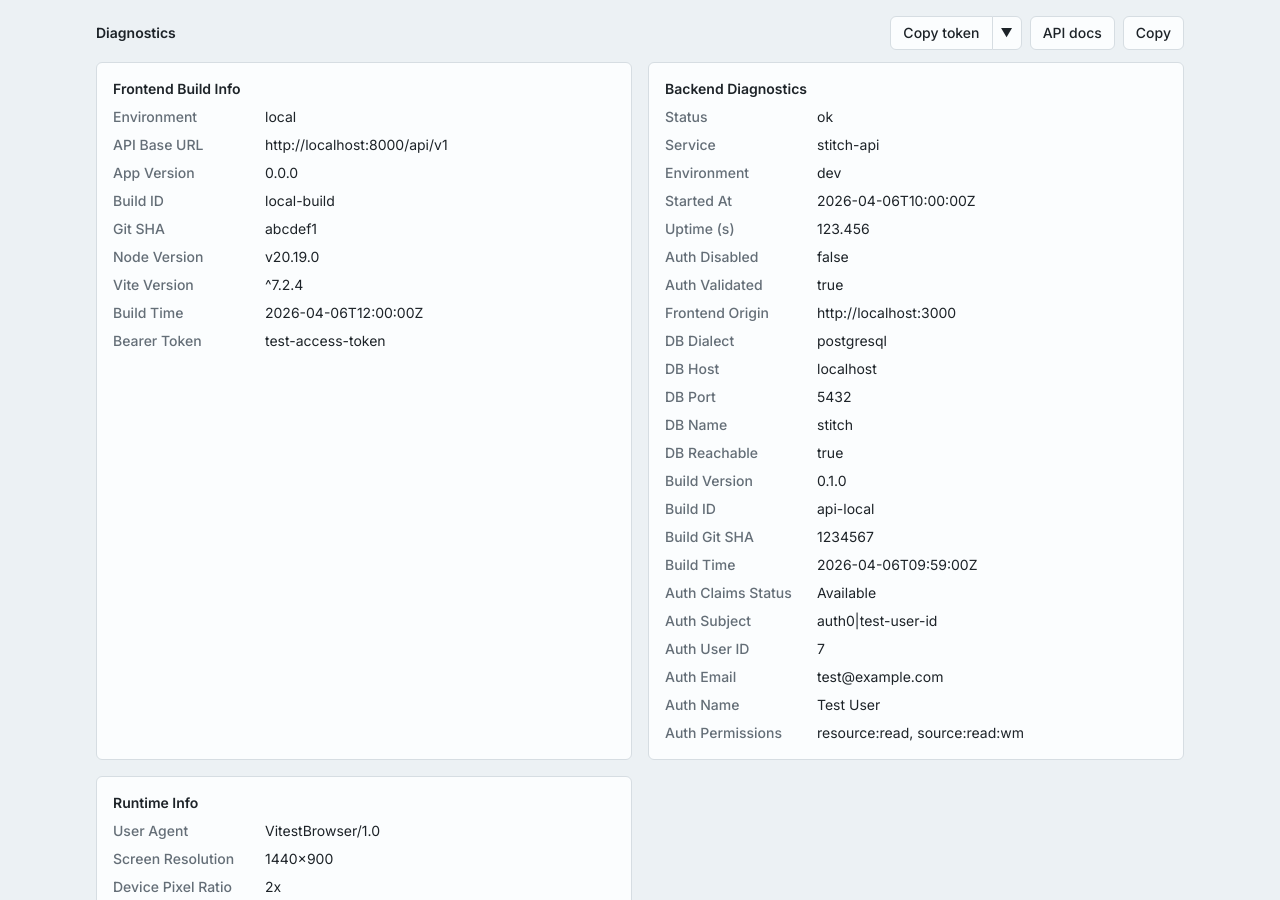
ColophonPanel › shows a failure and keeps the current token when refresh fails
Expected: the text "test-access-token" is shown, 265,332 -> 386,349
Click the button named "More token actions": click(1007, 33) 992,16 -> 1022,50
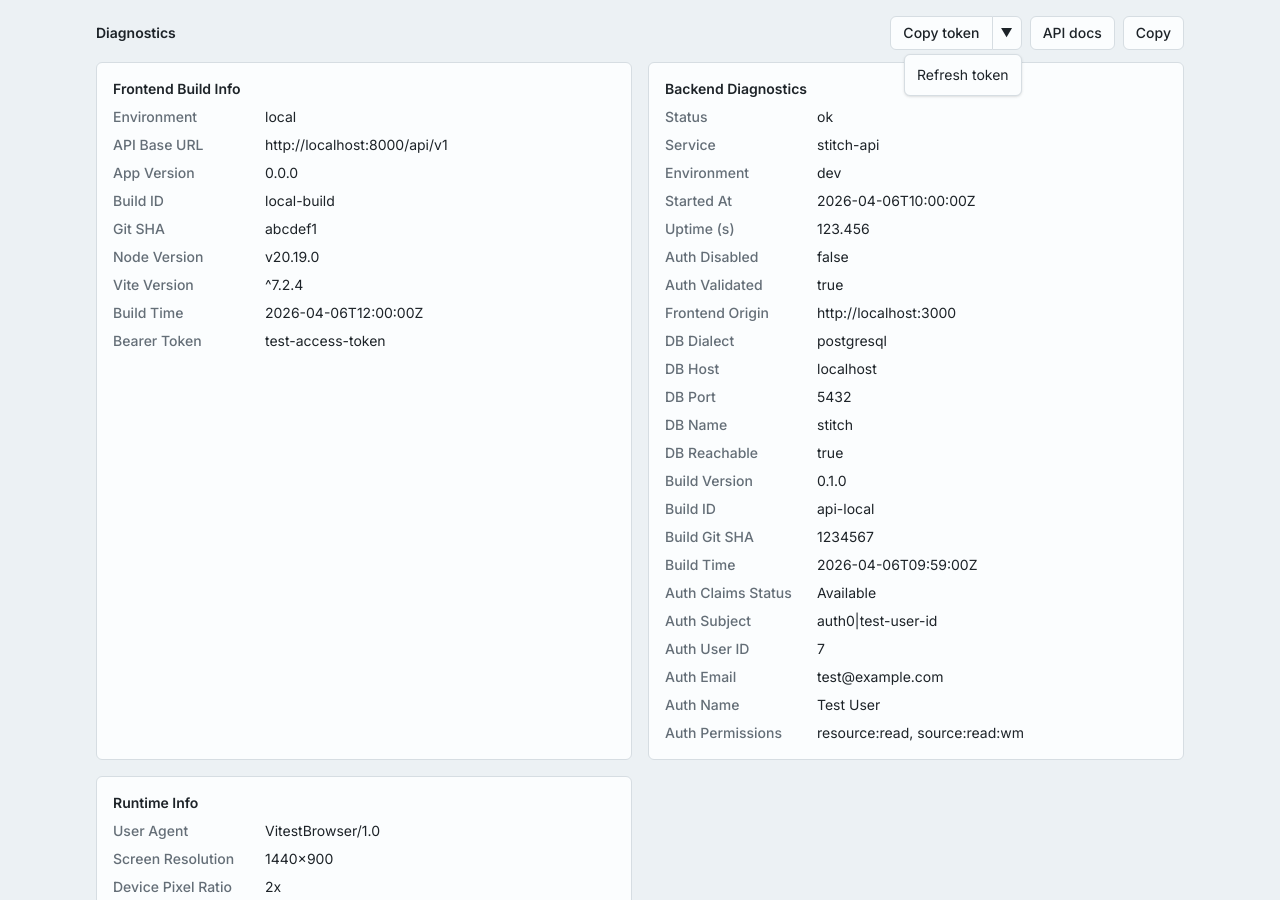
Click the button "Refresh token": click(963, 75) 905,59 -> 1021,91
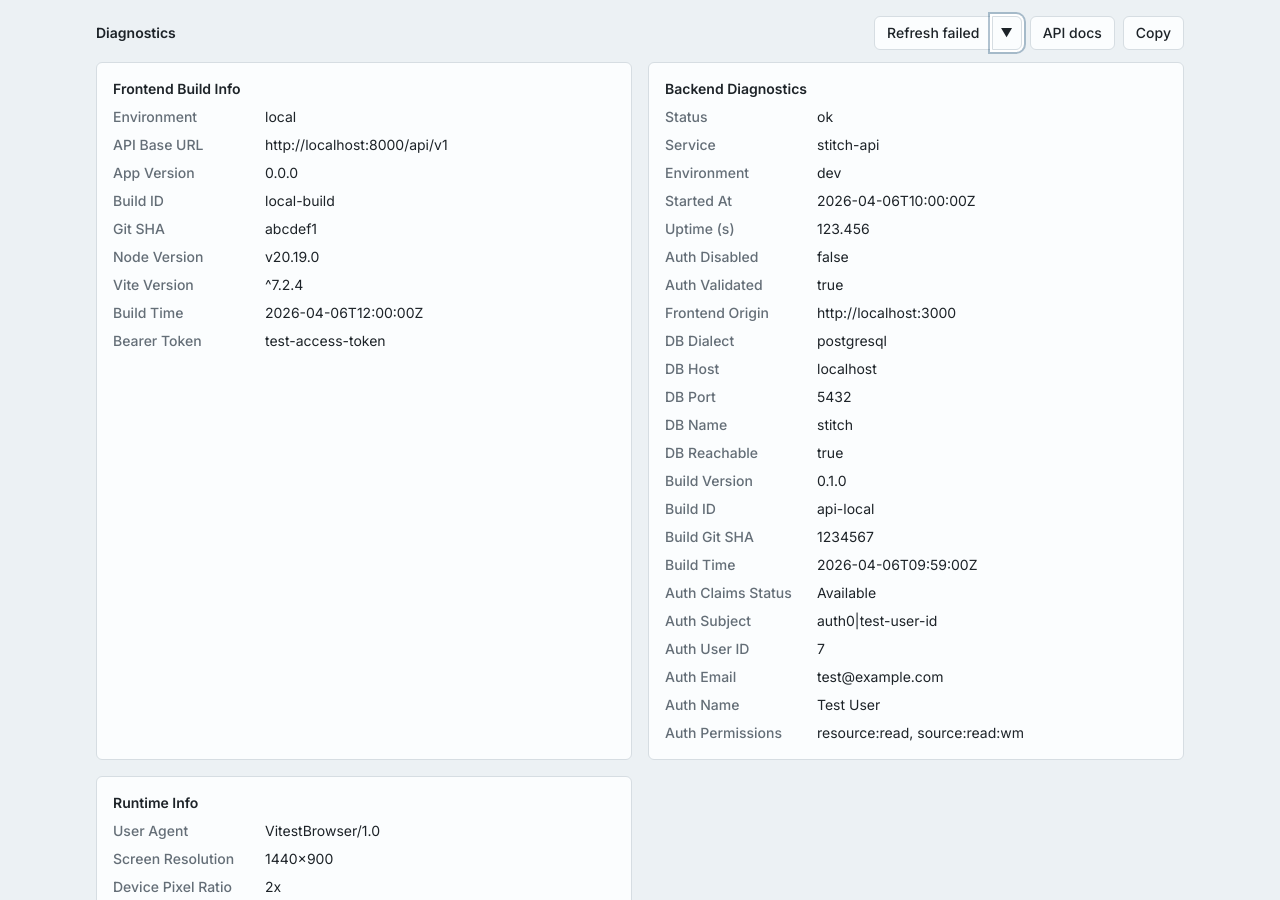
Expected: the text "test-access-token" is shown, 265,332 -> 386,349
Expected: the button "Refresh failed" is shown, 874,16 -> 992,50
